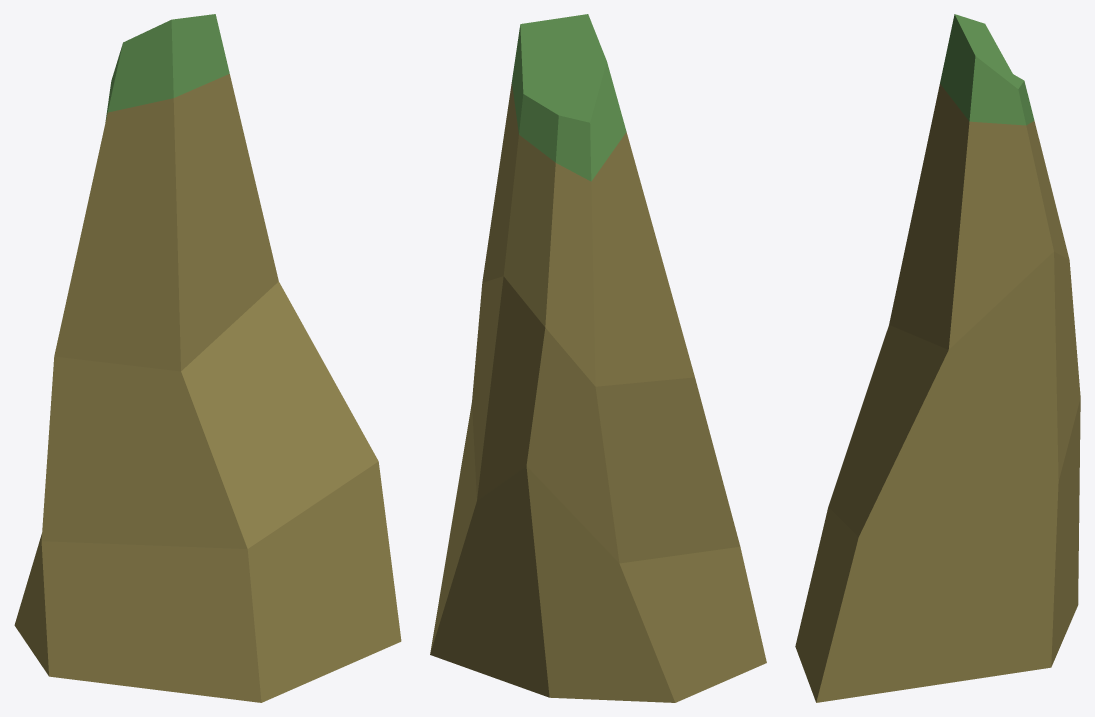
The model's file is low poly rock tall.fbx.
3 views of the same model, side by side, from view 1: azimuth 30°, elevation 25°; view 2: azimuth 150°, elevation 25°; view 3: azimuth 270°, elevation 25° (orthographic). The views are drawn at different scales.
Parts seen in each view (by area): view 1: Plane.019; view 2: Plane.019; view 3: Plane.019.
Boxes of the visible parts, left/top/right/bottom form: Plane.019: left=14, top=14, right=401, bottom=702; Plane.019: left=430, top=14, right=766, bottom=702; Plane.019: left=795, top=14, right=1080, bottom=702.
Bounding box in the file's own units: 279 × 543 × 224.
